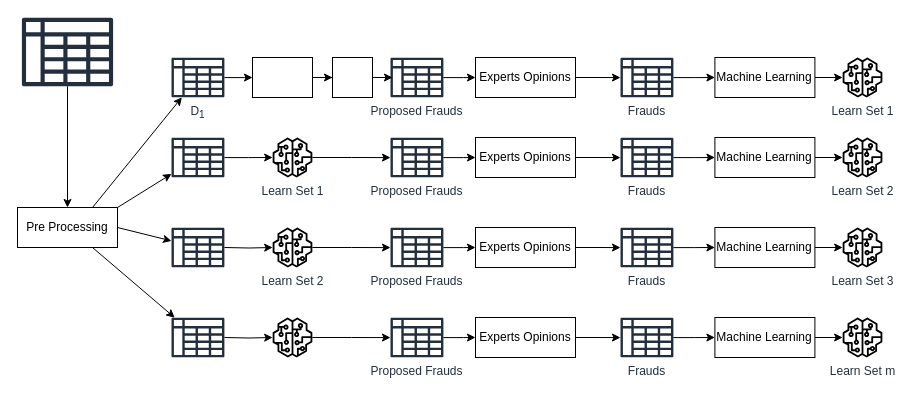
This 912x398 diagram has some shape labels left out. Each missing label, with the centre of its shape:
Anomaly Detection: (x=282, y=77)
D 2: (x=197, y=157)
D 3: (x=197, y=247)
D m: (x=197, y=337)
EAD: (x=352, y=77)
Input Data: (x=67, y=51)
Learn Set m-1: (x=292, y=337)
